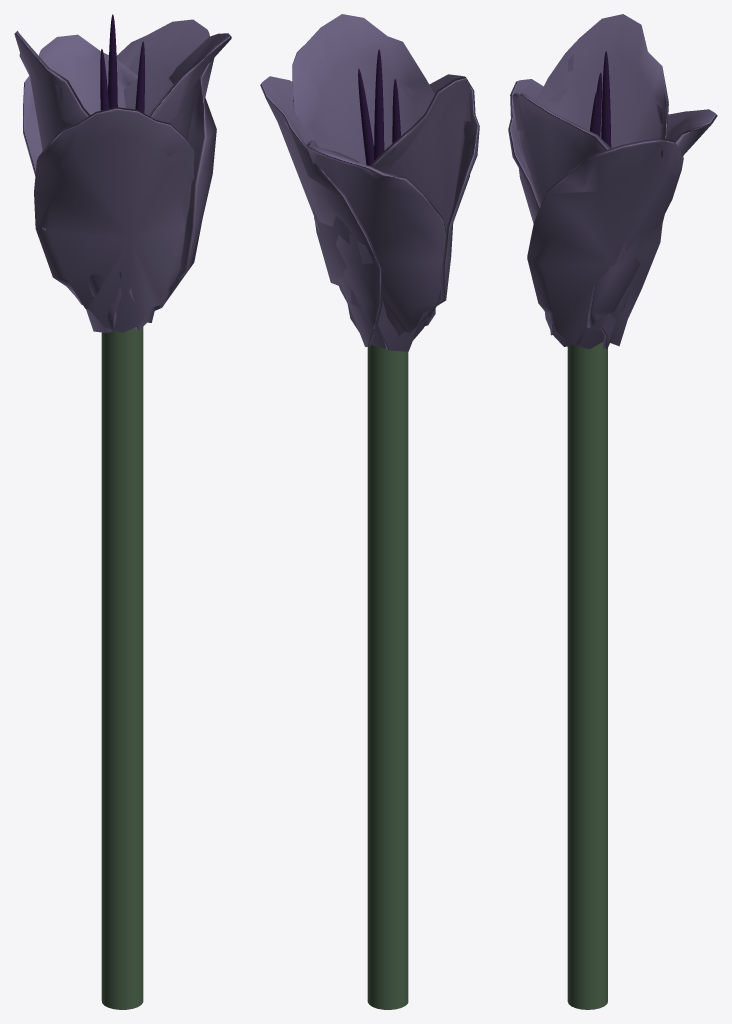
File: freesia.obj
The picture shows the model from 3 angles, left to right: view 1: azimuth 30°, elevation 25°; view 2: azimuth 150°, elevation 25°; view 3: azimuth 270°, elevation 25°; orthographic projection. The views are drawn at different scales.
Visible parts, largest first — view 1: freesia petals, stem freesia, freesia pSphere2 centre; view 2: freesia petals, stem freesia, freesia pSphere2 centre, freesia centre pSphere3; view 3: freesia petals, stem freesia, freesia pSphere2 centre.
Boxes of the visible parts, x1,y1,x2,y2 form: freesia petals: (14, 19, 231, 332); stem freesia: (101, 327, 143, 1009); freesia pSphere2 centre: (108, 14, 117, 108); freesia petals: (260, 14, 479, 351); stem freesia: (367, 344, 408, 1009); freesia pSphere2 centre: (374, 49, 384, 160); freesia centre pSphere3: (358, 68, 373, 165); freesia petals: (508, 14, 717, 349); stem freesia: (567, 341, 607, 1009); freesia pSphere2 centre: (601, 51, 611, 147).
Bounding box in the file's own units: 0.8231 × 3.98 × 0.796.
